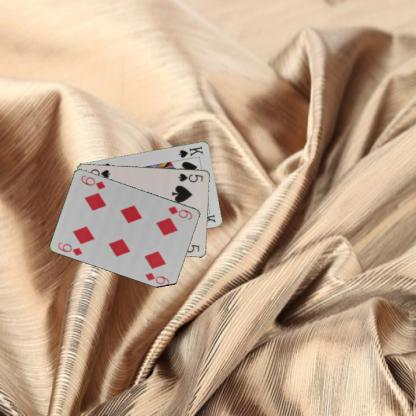5s: (176, 171, 204, 184)
6d: (55, 239, 84, 257), (166, 203, 193, 221)
Ks: (176, 143, 205, 159)
